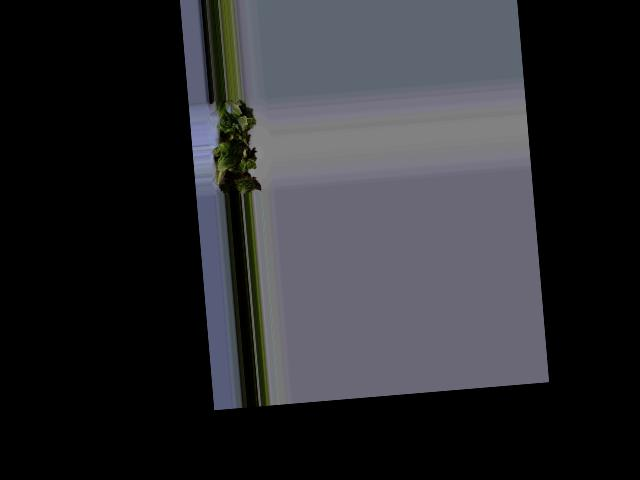lettuce: (215, 103, 257, 192)
